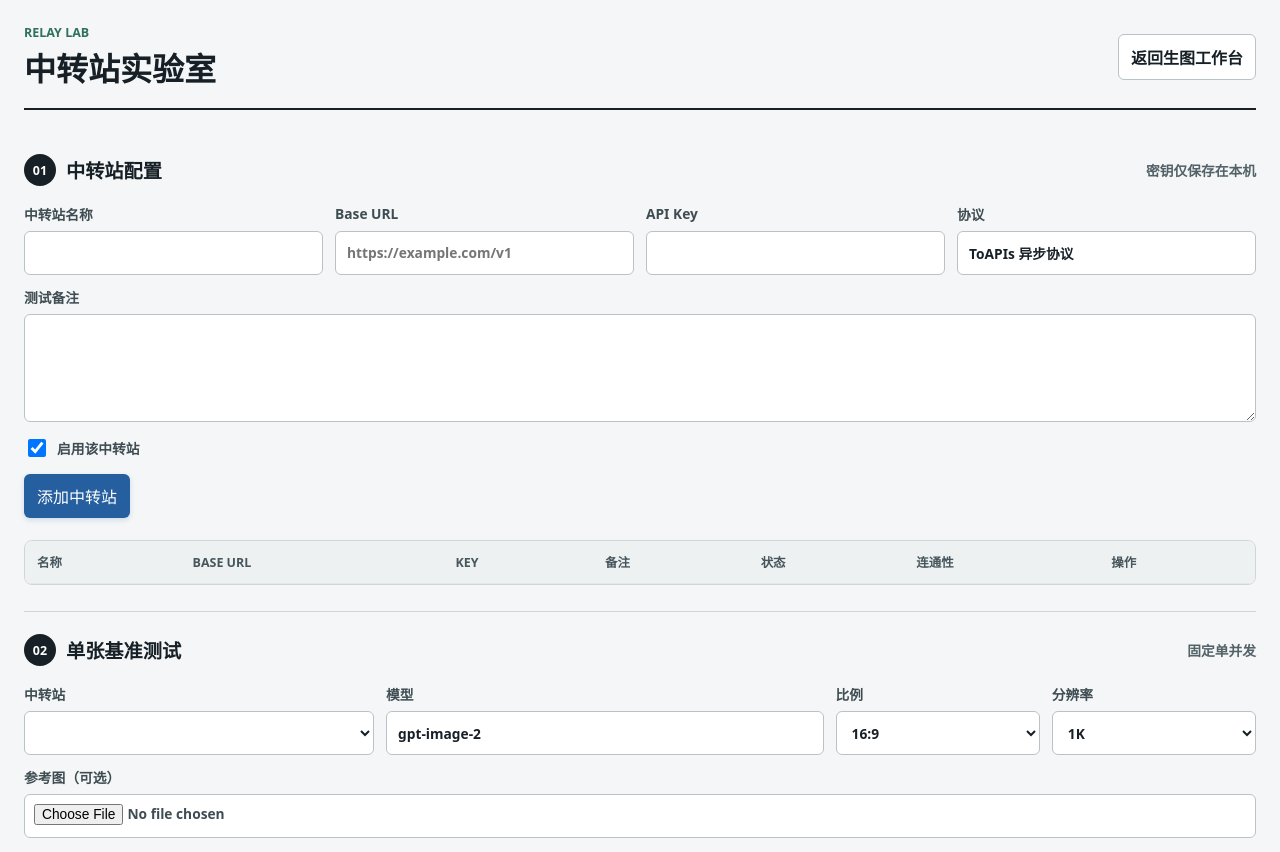
Scenario: LabPage › adds a relay configuration from the settings form
The image size is (1280, 852).
Type "中转站 B" into the field labelled "中转站名称" at coordinates (174, 253), box [24,231,323,275]
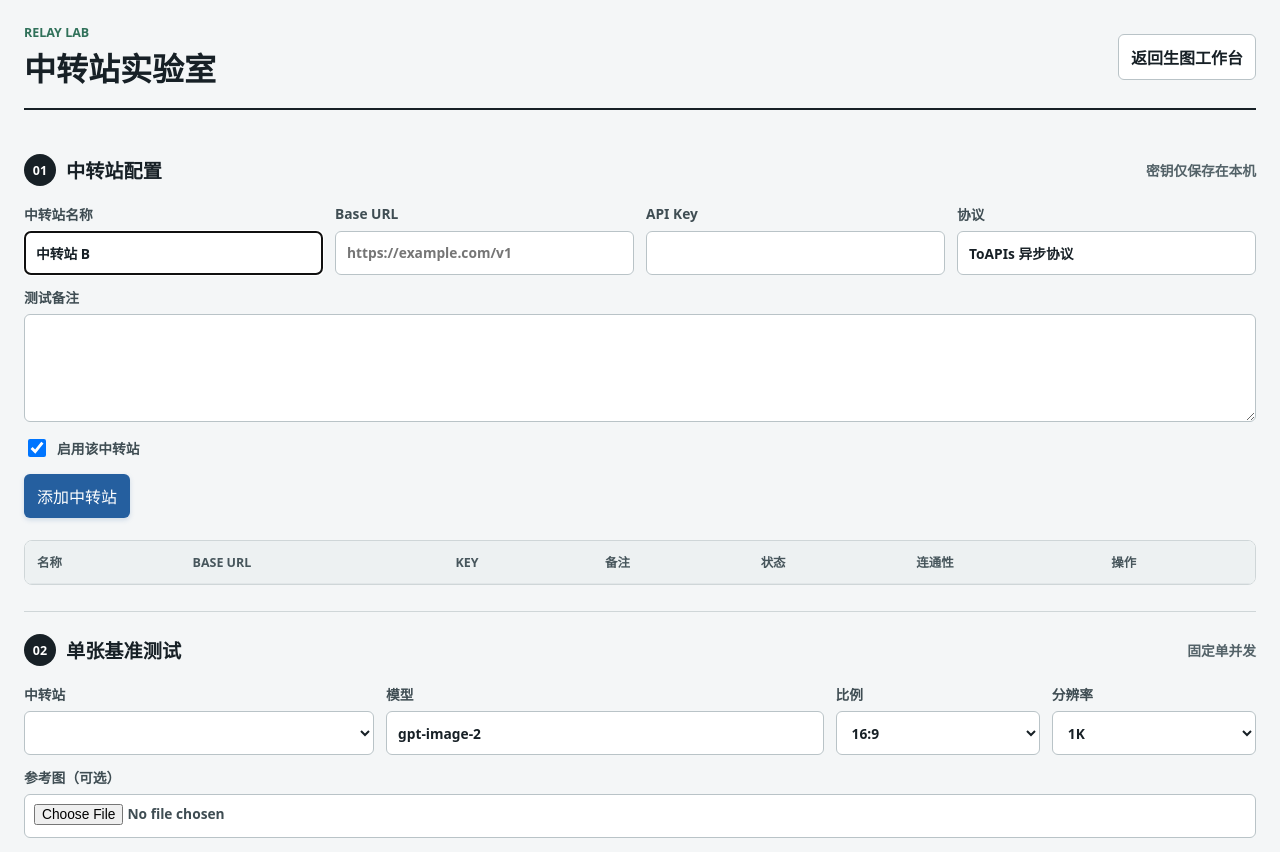
Type "https://relay-b.example.com/v1" into the field labelled "Base URL" at coordinates (484, 253), box [335,230,634,275]
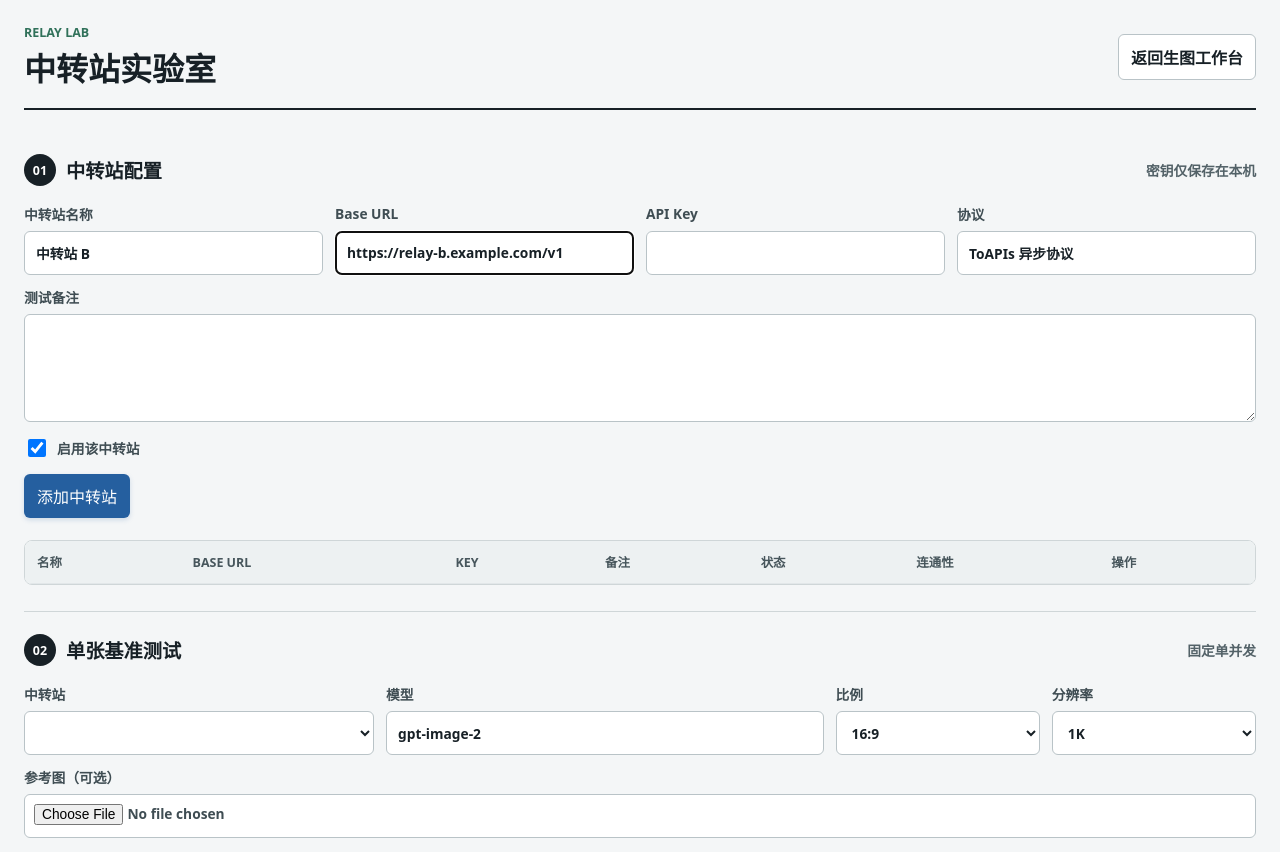
Type "secret-7890" into the password field labelled "API Key" at coordinates (796, 253), box [646,230,945,275]
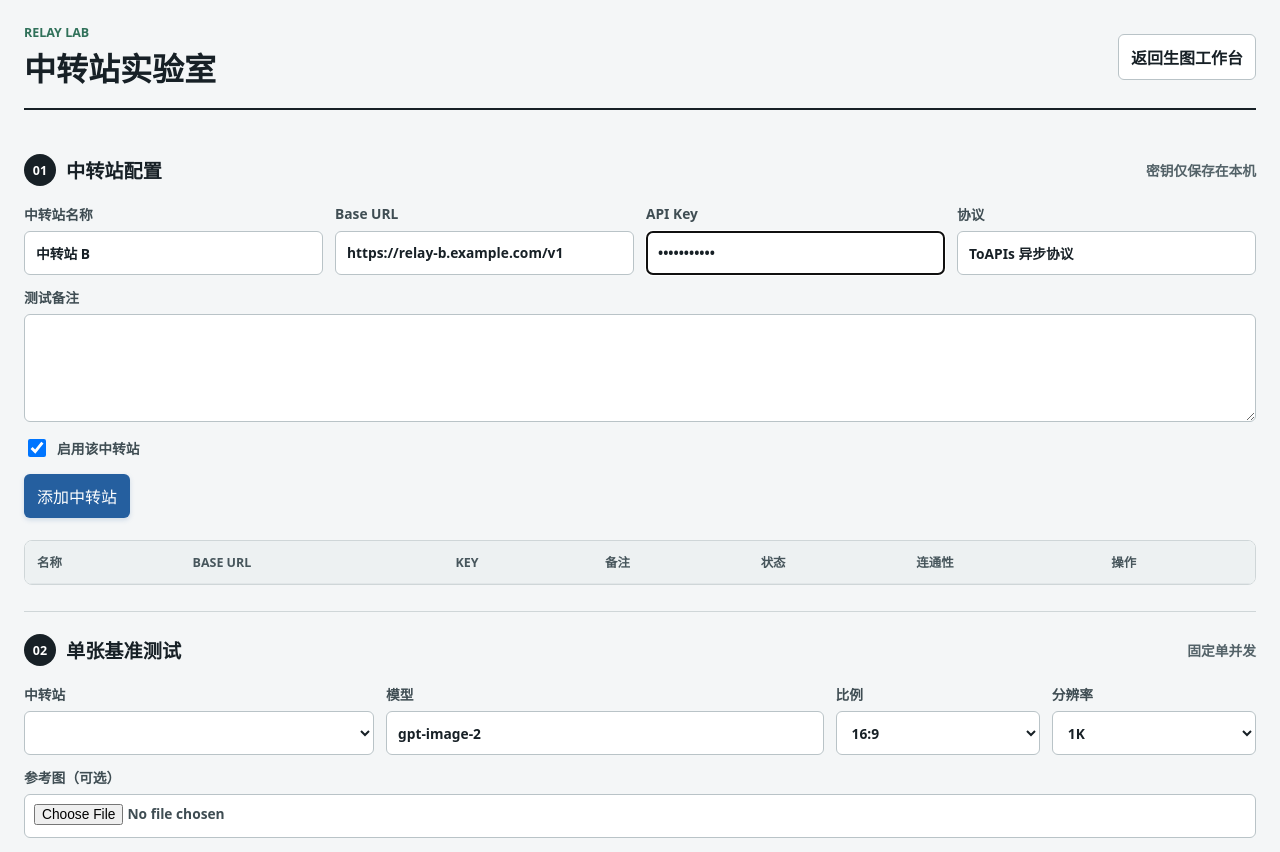
Type "参考图测试成功，生成较快" into the text box labelled "测试备注" at coordinates (640, 368), box [24,314,1256,422]
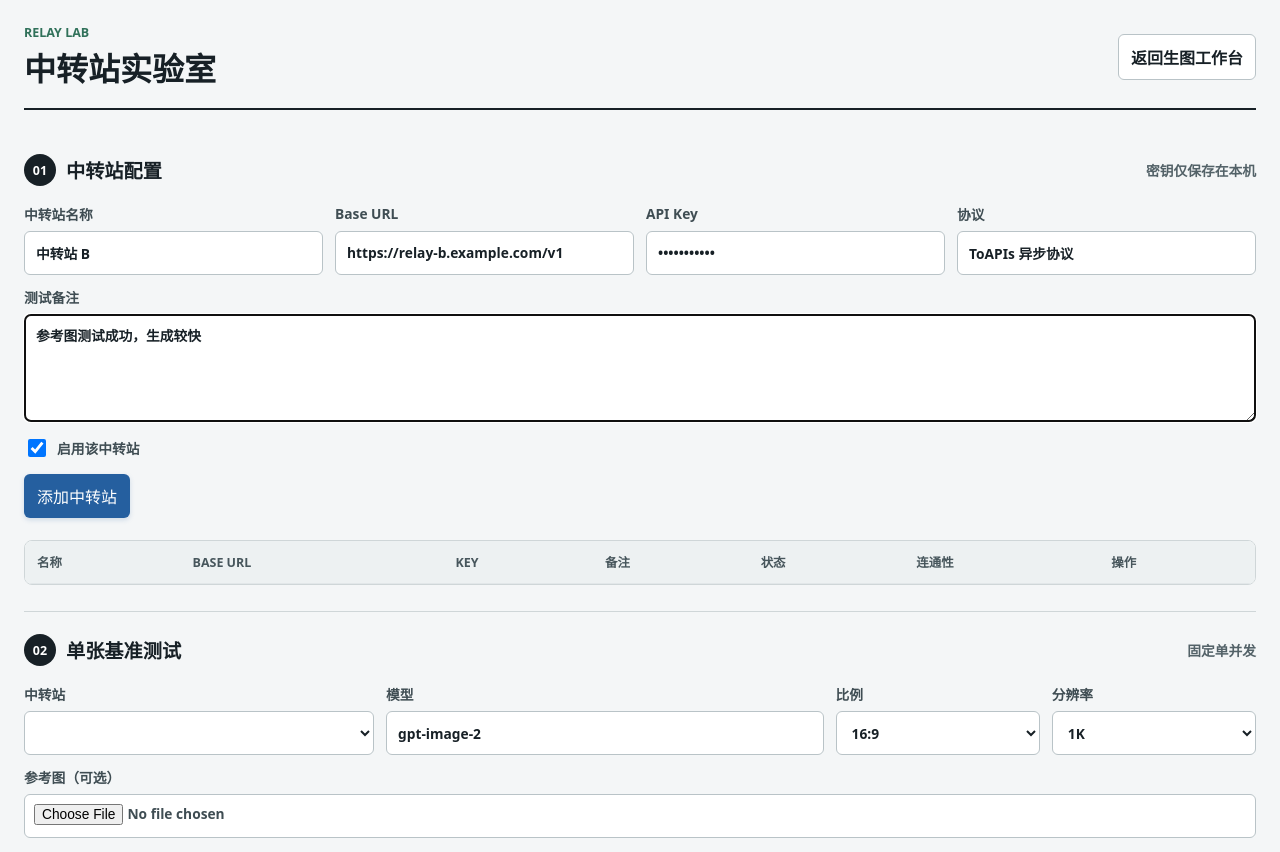
Click the button "添加中转站" at coordinates (77, 496), box [24,474,130,518]
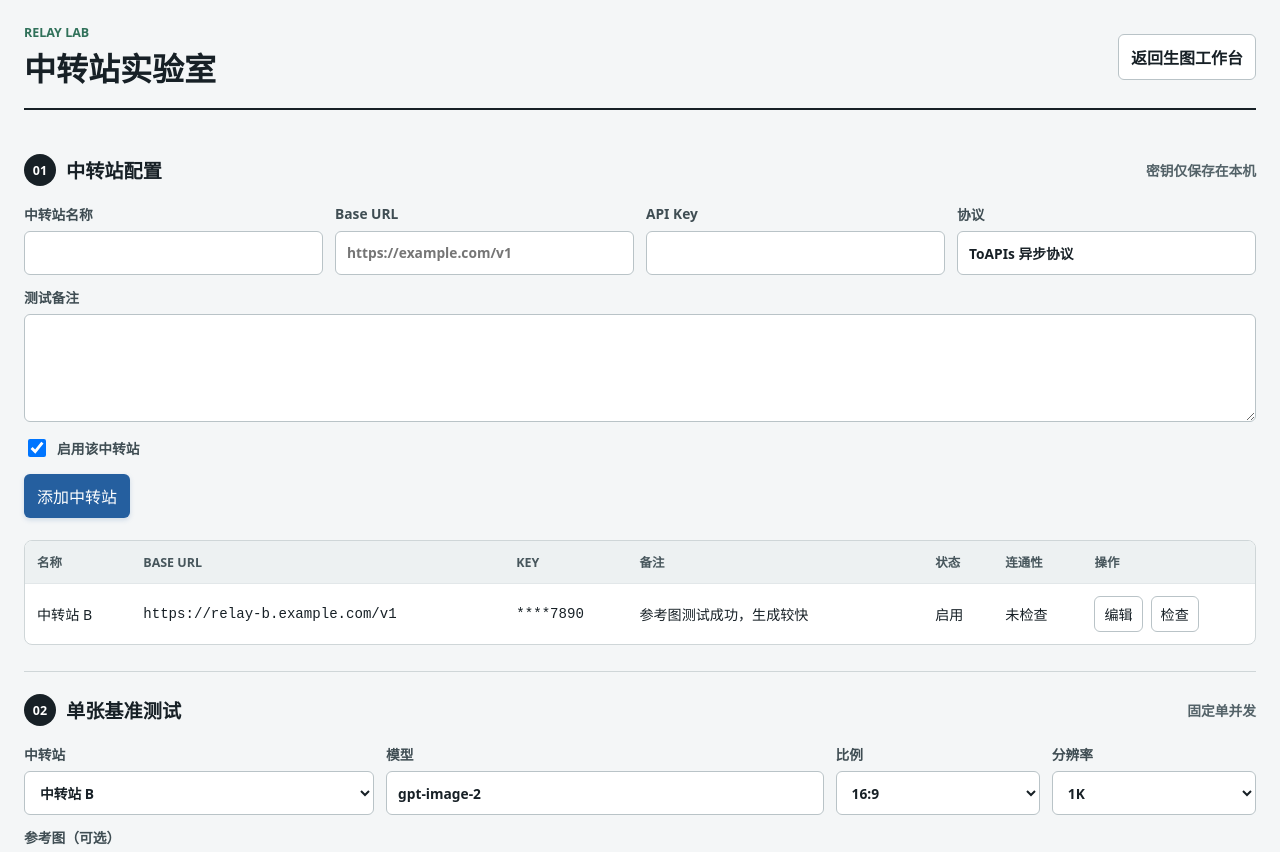
Expected: the text "中转站 B" is shown, [25,584,131,644]
